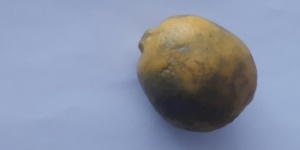BAD: (137, 14, 259, 137)
